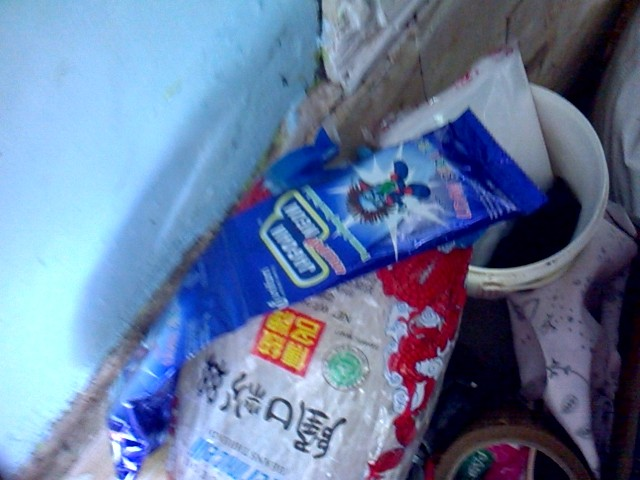jagoan neon: (216, 106, 552, 326)
